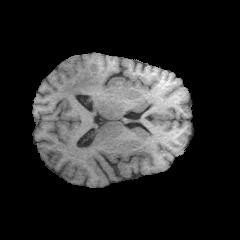glioma: (64, 73, 102, 94)
